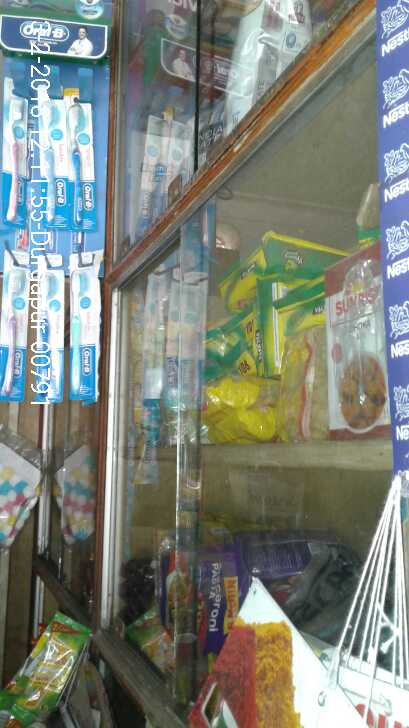oralb: (31, 99, 64, 233), (66, 263, 95, 396), (2, 84, 26, 239), (66, 99, 94, 225), (3, 272, 27, 398), (34, 273, 57, 400)
